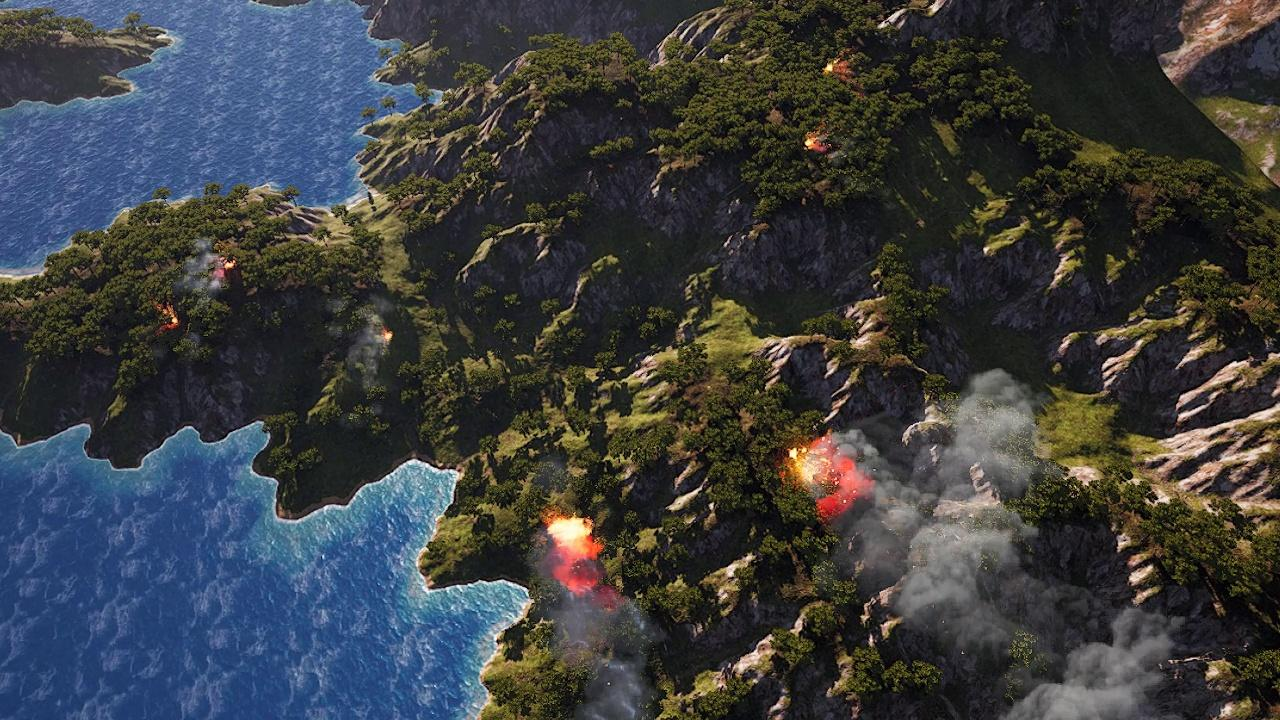fire: (786, 436, 869, 511), (542, 512, 601, 584), (818, 51, 859, 88), (148, 301, 183, 331), (204, 250, 238, 279), (808, 140, 832, 159)
smoke: (826, 364, 1225, 720), (525, 501, 650, 720)
